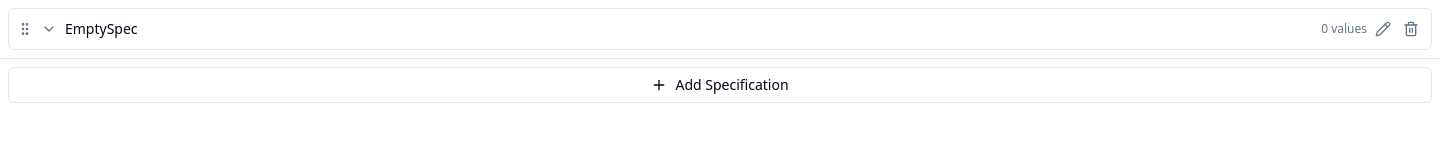
SpecificationList › shows spec with no values defined message when expanded
The image size is (1440, 161).
What coordinates should you click on to do the following:
click the text "EmptySpec"
I would click on:
 (101, 28)
Its box is 65,19 -> 138,38.
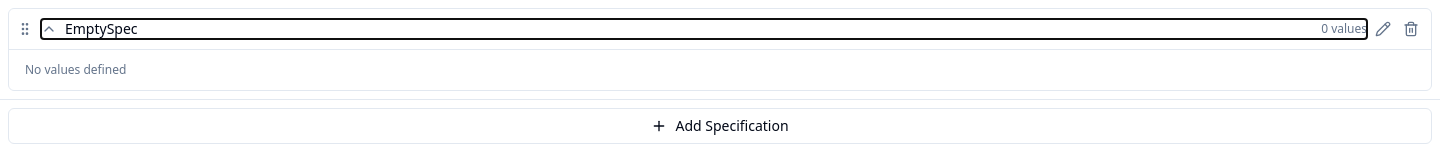
Expected: the text "No values defined" is shown, 25,61 -> 126,78
